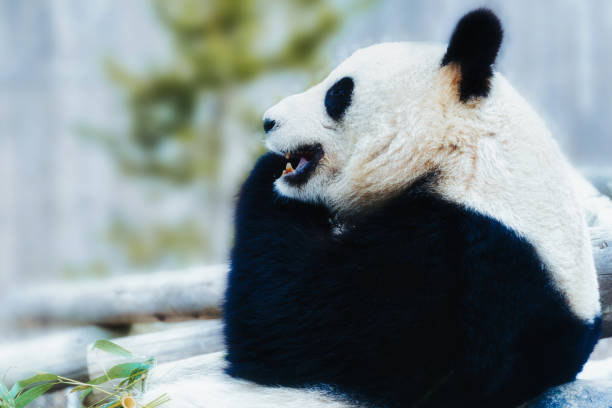panda: (220, 9, 521, 259)
